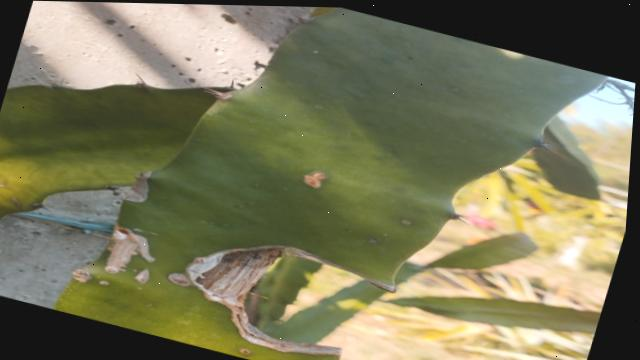stemcanker: (301, 169, 330, 195)
